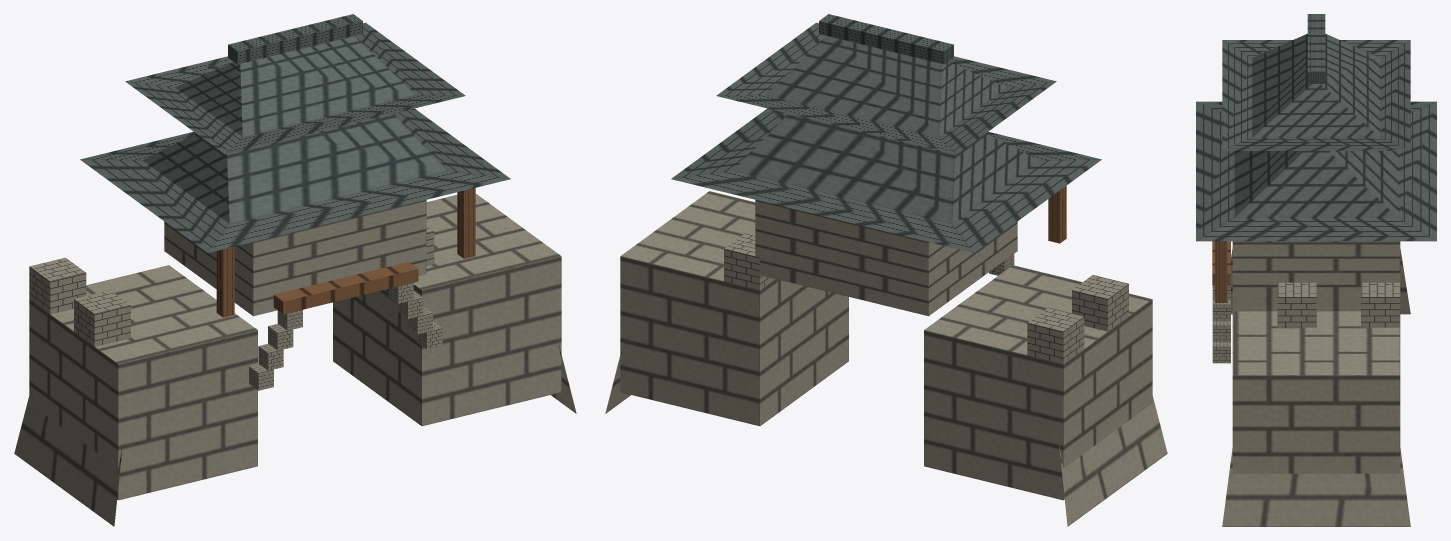
The model's file is gate-v121-lod0.glb.
3 views of the same model, side by side, from view 1: azimuth 30°, elevation 25°; view 2: azimuth 150°, elevation 25°; view 3: azimuth 270°, elevation 25° (orthographic). The views are drawn at different scales.
Bounding box in the file's own units: 0.96 × 0.796 × 0.46.
1 material, 1 textured.
